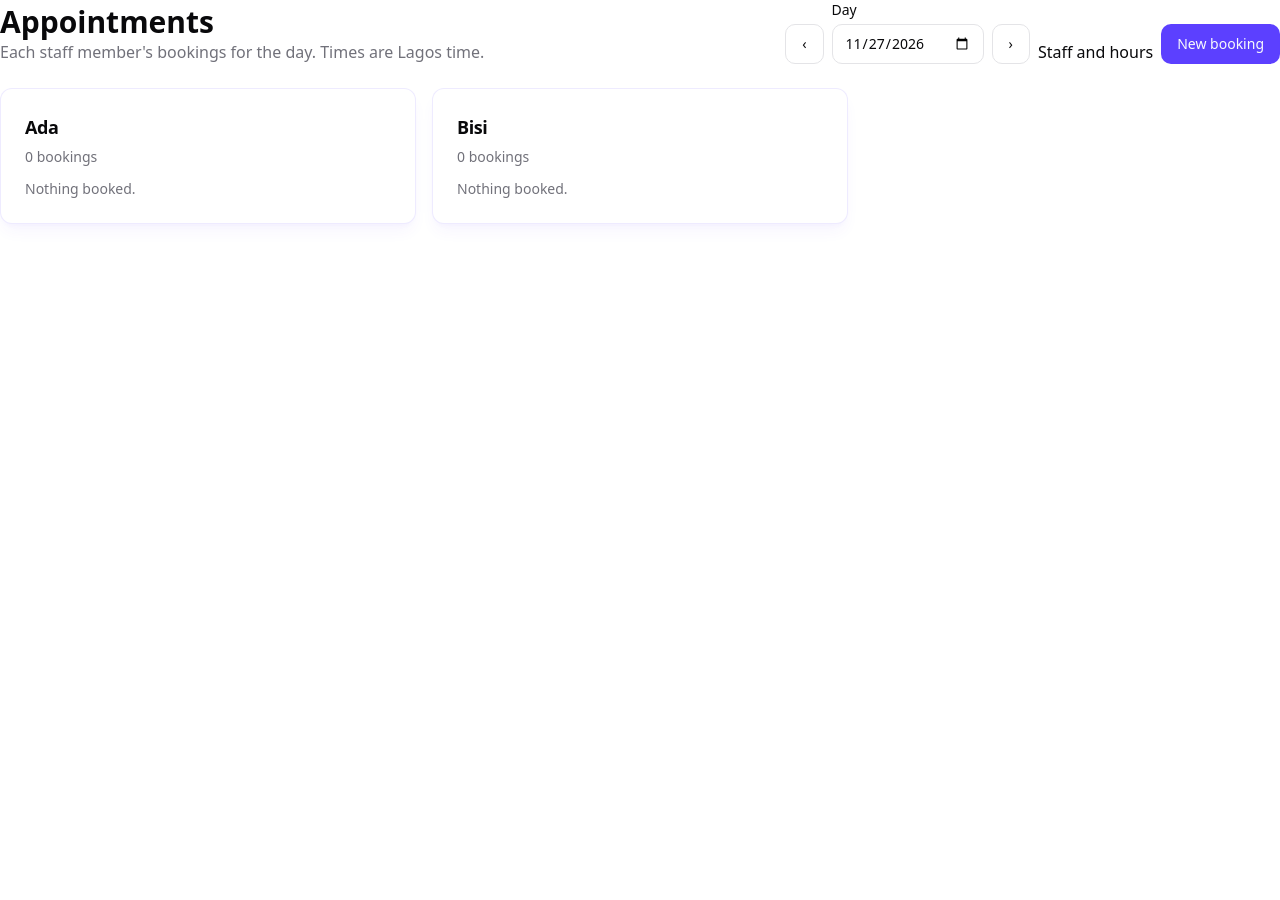
it: checking in needs permission, and cancelling needs a reason
The image size is (1280, 900).
Click the button named "Next day" at (1011, 44), box [992,24,1030,64]
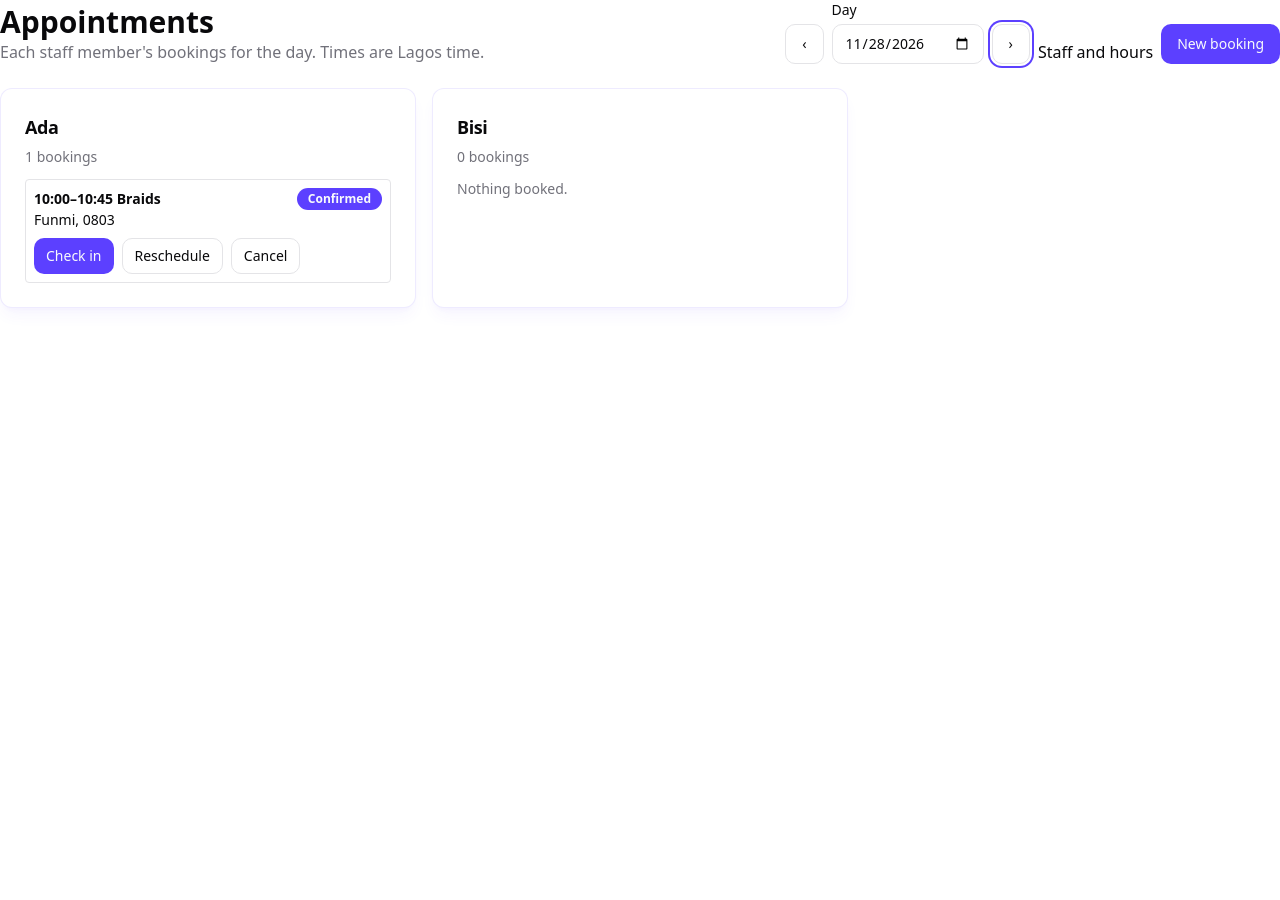
Check: the list named "Ada's bookings" is shown, box [25,179,391,283]
Click the button "Check in" at (74, 256), box [34,238,114,274]
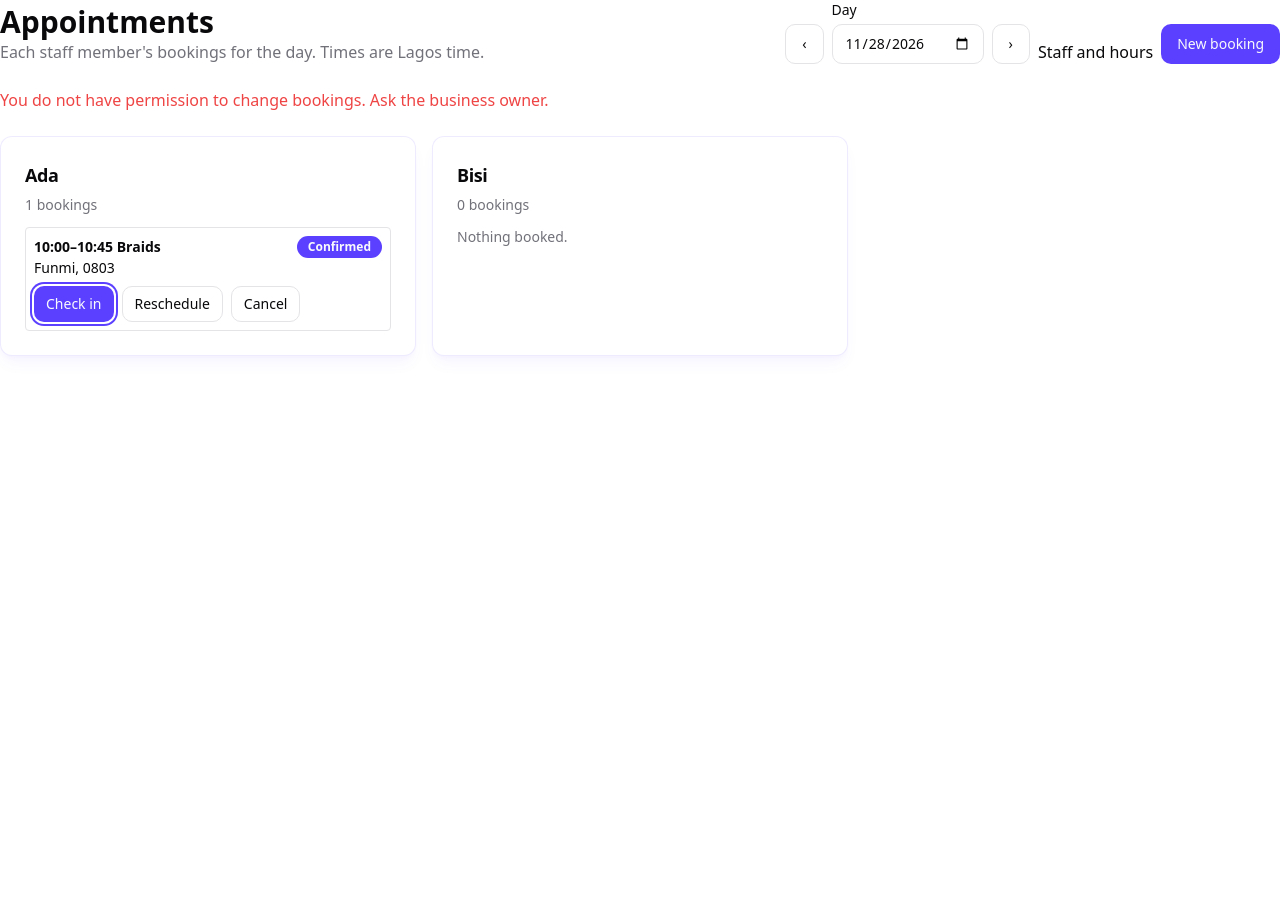
Check: the message shows "You do not have permission to change bookings", box [0,89,548,111]
Click the button "Cancel" at (266, 304), box [231,286,300,322]
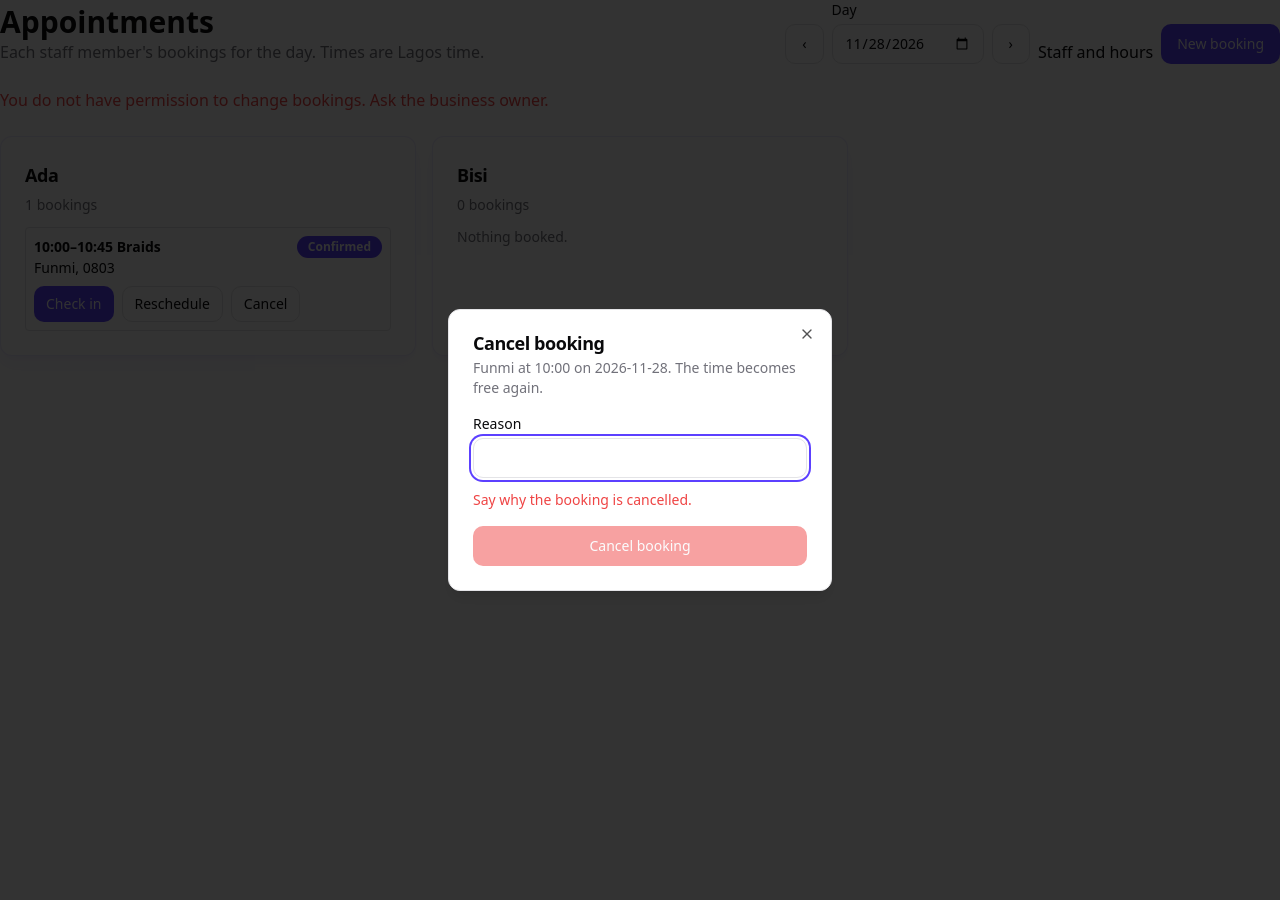
Check: the button "Cancel booking" is disabled, box [473,526,807,566]
Type "Customer travelled" into the field labelled "Reason" at (640, 458), box [473,438,807,478]
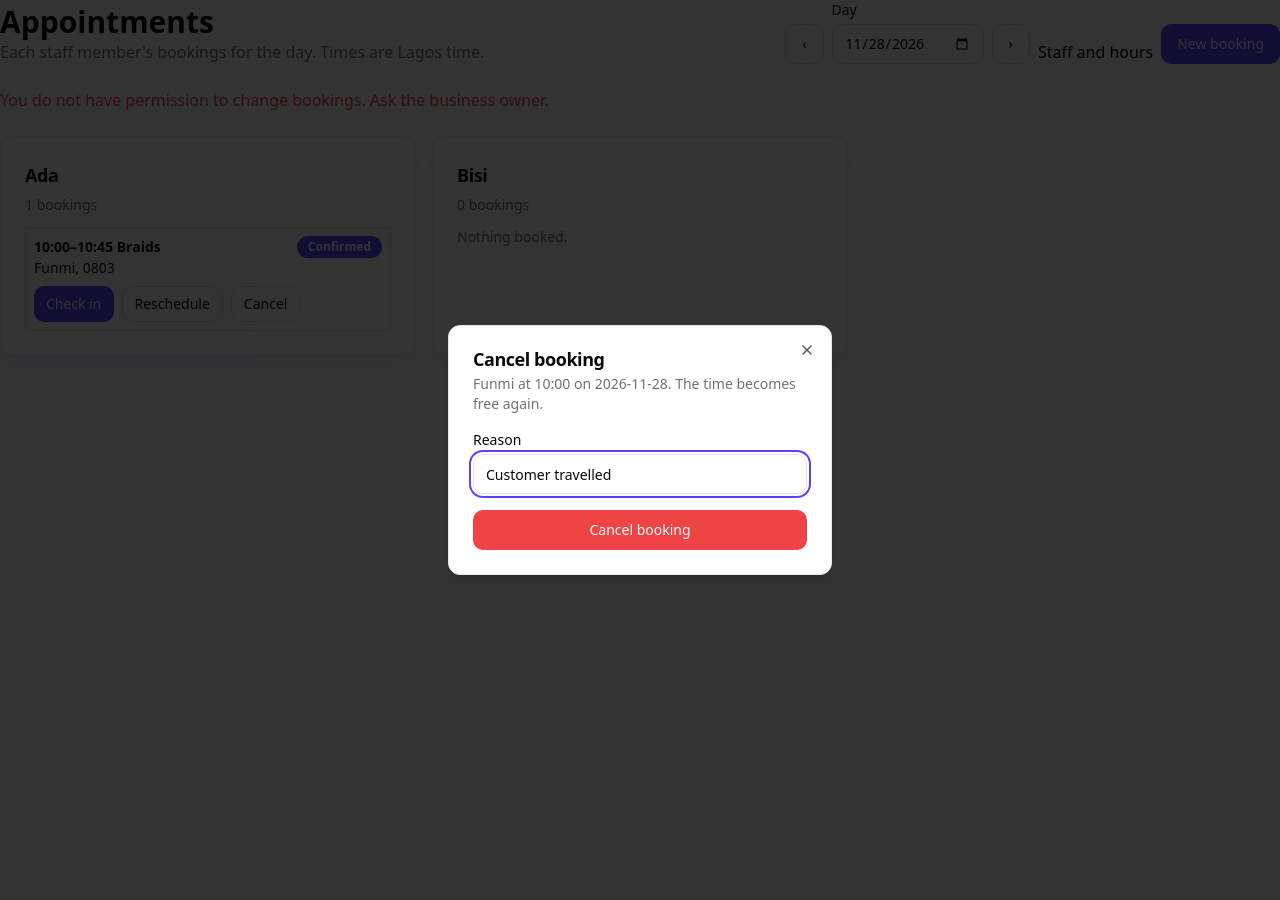
Click the button "Cancel booking" at (640, 530), box [473,510,807,550]
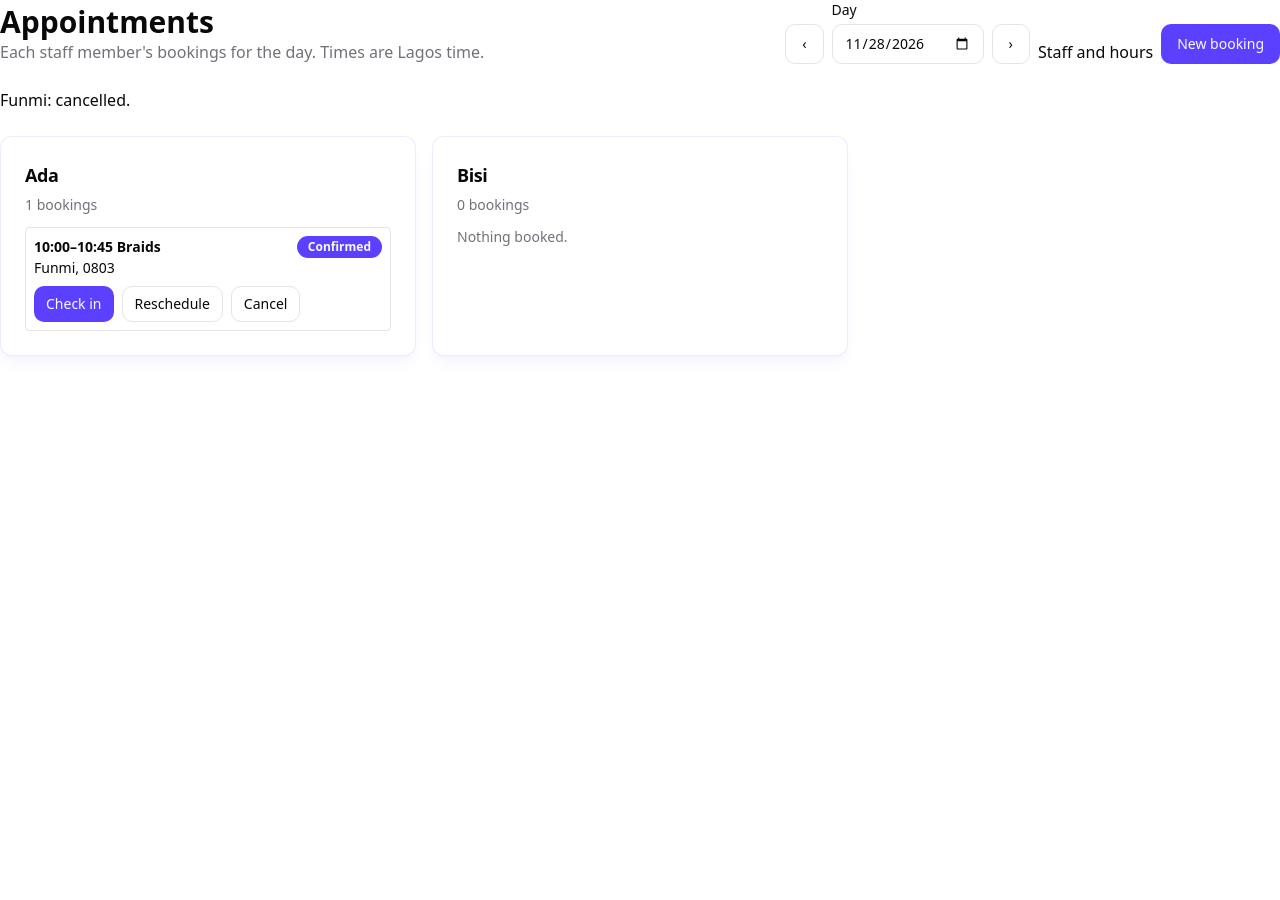
Check: the text "Funmi: cancelled." is shown, box [0,89,130,111]
